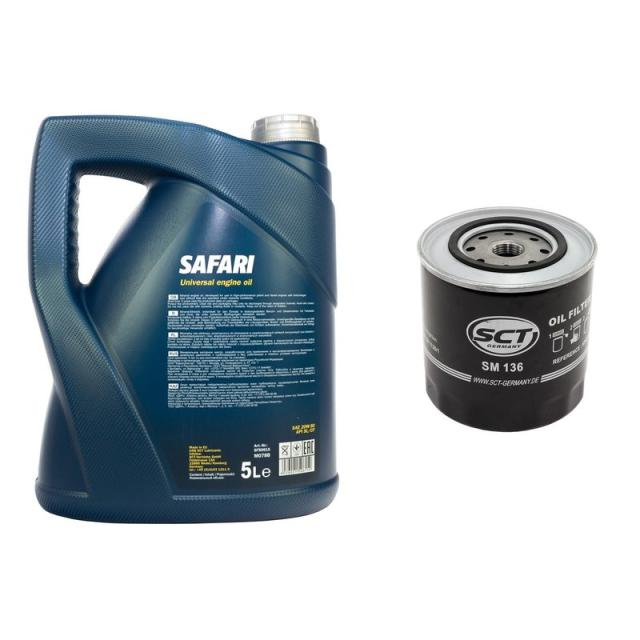motor_oil: (21, 105, 347, 528)
oil_filter: (412, 199, 612, 435)
